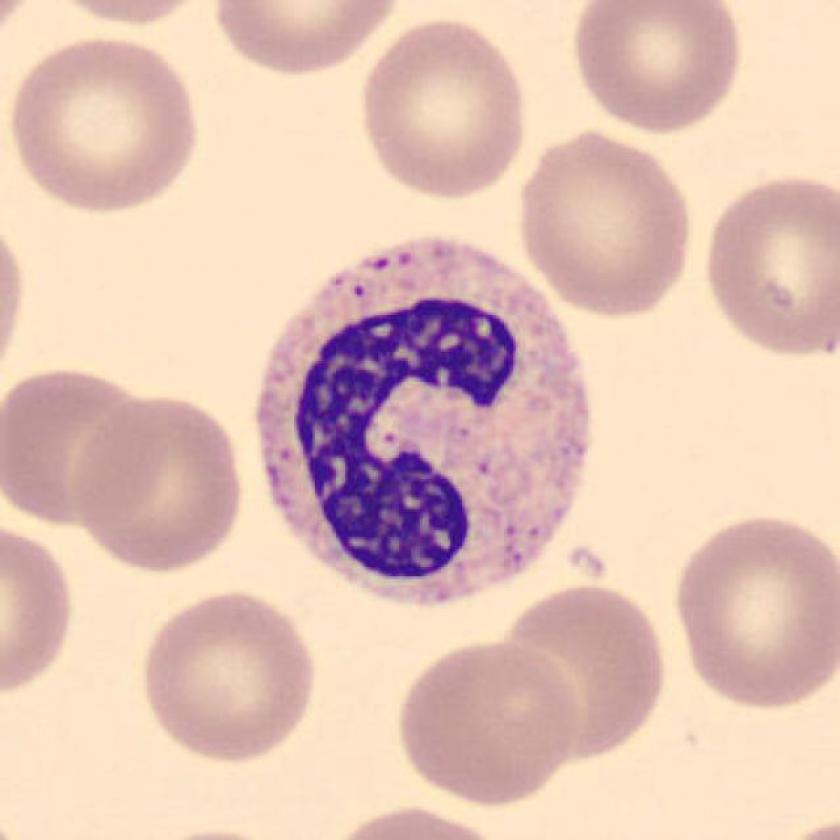neutrophil: (259, 237, 591, 606)
